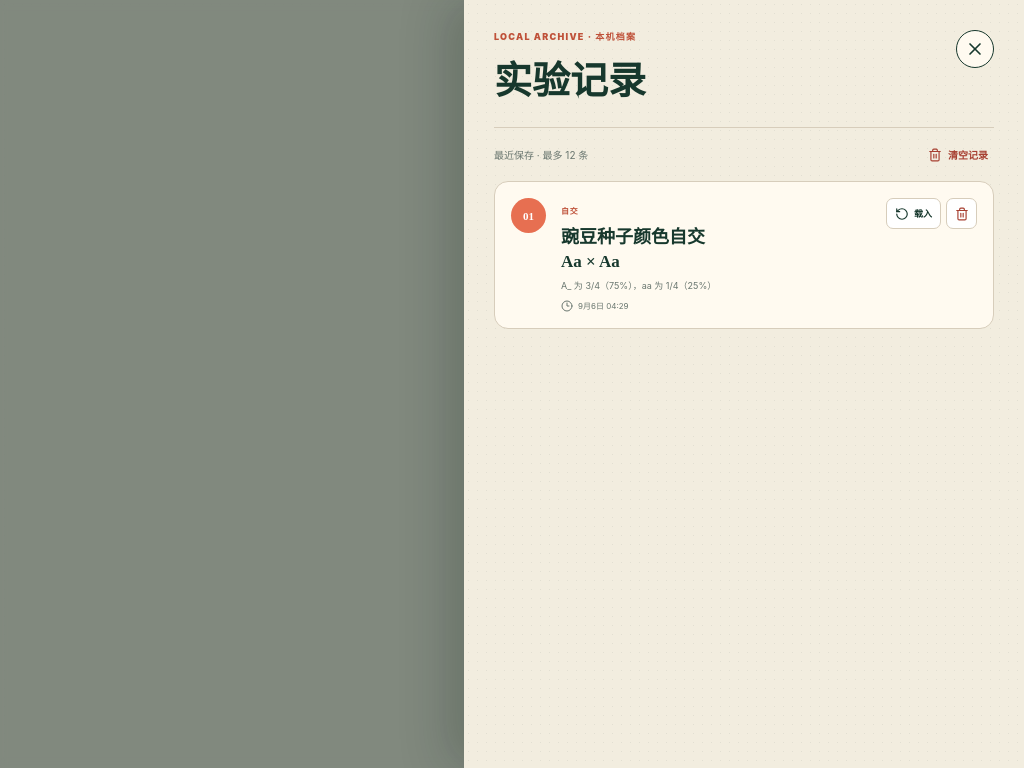
HistoryDrawer › deletes a single experiment
Click the button named "删除豌豆种子颜色自交": x=962, y=214 [946,198,977,229]
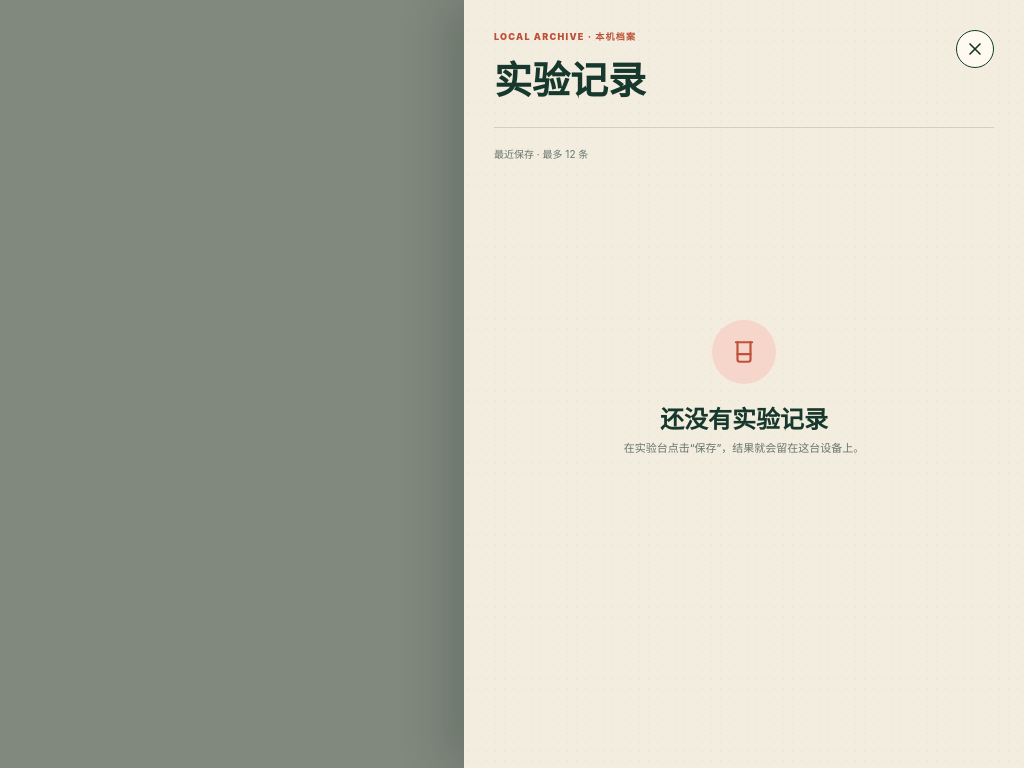
Now the heading "还没有实验记录" is shown, box [660,400,828,435]
